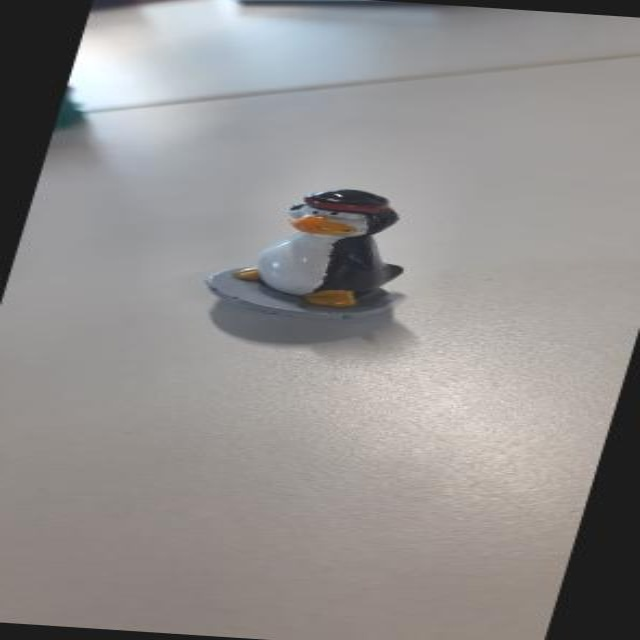Penguin: (193, 172, 453, 339)
